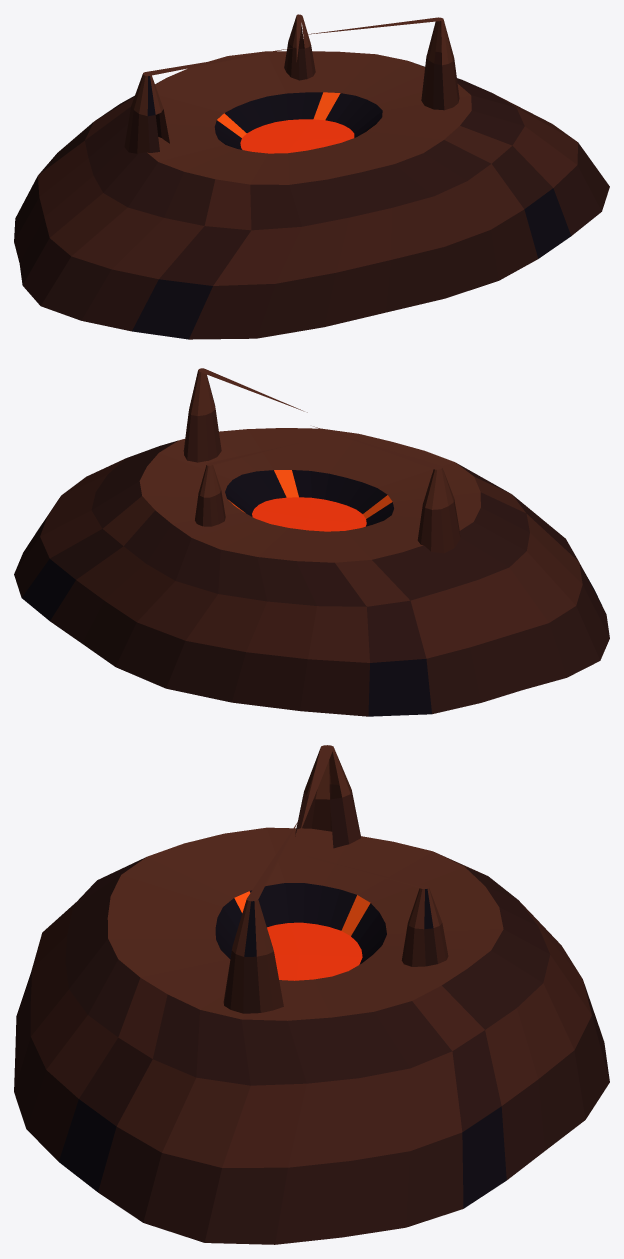
Rendered from magma_horizon_island.obj.
The picture shows the model from 3 angles, top to bottom: view 1: azimuth 30°, elevation 25°; view 2: azimuth 150°, elevation 25°; view 3: azimuth 270°, elevation 25°; orthographic projection. The views are drawn at different scales.
Parts seen in each view (by area): view 1: magma_horizon_island; view 2: magma_horizon_island; view 3: magma_horizon_island.
Boxes of the visible parts, left/top/right/bottom form: magma_horizon_island: left=14, top=14, right=609, bottom=339; magma_horizon_island: left=14, top=368, right=609, bottom=716; magma_horizon_island: left=14, top=745, right=609, bottom=1244.
Bounding box in the file's own units: 59.63 × 20.68 × 42.96.
